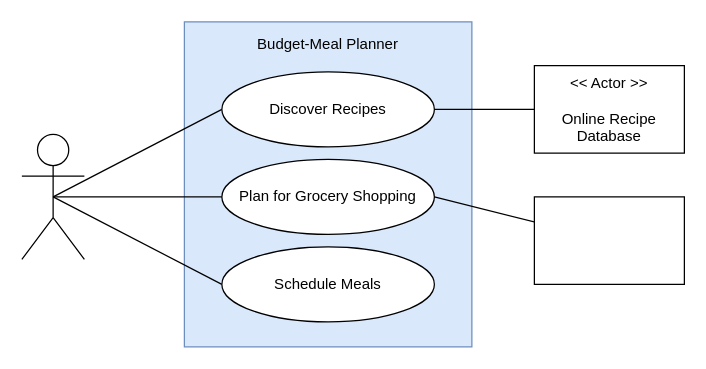
This 706x369 diagram has some shape labels left out. Each missing label, with the centre of its shape:
<< Actor >> External Grocery Pricing Source: point 608,240
User: point 52,196
